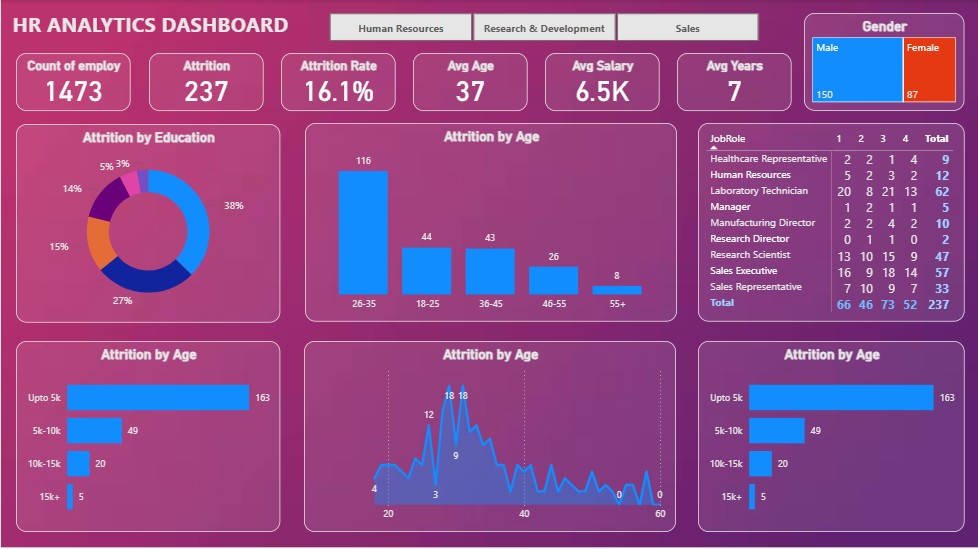

What the dashboard file says about the page in this screenshot:
{"tool":"powerbi","page":{"name":"Page 1","canvas":[1280,720],"ordinal":0},"visuals":[{"type":"card","title":"Count of employ","fields":{"Values":["CountNonNull(HR_Analytics.EmpID)"]},"box":[20.2,68.8,149.5,75.6],"z":0},{"type":"card","title":"Avg Age","fields":{"Values":["Avg(HR_Analytics.Age)"]},"box":[539.2,68.8,149.5,75.6],"z":1000},{"type":"card","title":"Attrition","fields":{"Values":["Sum(HR_Analytics.AttritionCount)"]},"box":[193.2,68.8,149.5,75.6],"z":2000},{"type":"card","title":"Attrition Rate","fields":{"Values":["HR_Analytics.AttritionRate"]},"box":[366.2,68.8,149.5,75.6],"z":3000},{"type":"card","title":"Avg Salary","fields":{"Values":["Avg(HR_Analytics.MonthlyIncome)"]},"box":[712.2,68.8,149.5,75.6],"z":4000},{"type":"card","title":"Avg Years","fields":{"Values":["Avg(HR_Analytics.YearsAtCompany)"]},"box":[885.2,68.8,149.5,75.6],"z":5000},{"type":"donutChart","title":" Attrition by Education","fields":{"Category":["HR_Analytics.EducationField"],"Y":["Sum(HR_Analytics.AttritionCount)"]},"box":[20.2,161.8,346,260],"z":6000},{"type":"columnChart","title":" Attrition by Age","fields":{"Category":["HR_Analytics.AgeGroup"],"Y":["Sum(HR_Analytics.AttritionCount)"]},"box":[398.1,161.3,487.1,260.4],"z":7000},{"type":"pivotTable","fields":{"Rows":["HR_Analytics.JobRole"],"Columns":["HR_Analytics.JobSatisfaction"],"Values":["Sum(HR_Analytics.AttritionCount)"]},"box":[912.1,161.3,349.4,260.4],"z":8000},{"type":"barChart","title":" Attrition by Age","fields":{"Category":["HR_Analytics.SalarySlab"],"Y":["Sum(HR_Analytics.AttritionCount)"]},"box":[20.2,446.8,346,250.3],"z":9000},{"type":"barChart","title":" Attrition by Age","fields":{"Category":["HR_Analytics.SalarySlab"],"Y":["Sum(HR_Analytics.AttritionCount)"]},"box":[912.1,446.8,349.4,250.3],"z":10000},{"type":"areaChart","title":" Attrition by Age","fields":{"Category":["HR_Analytics.Age"],"Y":["Sum(HR_Analytics.AttritionCount)"]},"box":[396.4,446.8,487.1,250.3],"z":11000},{"type":"treemap","title":"Gender","fields":{"Group":["HR_Analytics.Gender"],"Values":["Sum(HR_Analytics.AttritionCount)"]},"box":[1051.5,16.8,210,127.7],"z":12000},{"type":"textbox","box":[0,8.4,502.3,52.1],"z":13000},{"type":"slicer","title":"gfdgsdf","fields":{"Values":["HR_Analytics.Department"]},"box":[404.8,10.1,611.4,50.4],"z":14000}]}

Visuals, with their boxes in screenshot pixels (x1, y1, x2, y2), scaled from the page's 1280x720 canvas onto the 978x549 screenshot:
"Count of employ" card: [left=15, top=52, right=130, bottom=110]
"Avg Age" card: [left=412, top=52, right=526, bottom=110]
"Attrition" card: [left=148, top=52, right=262, bottom=110]
"Attrition Rate" card: [left=280, top=52, right=394, bottom=110]
"Avg Salary" card: [left=544, top=52, right=658, bottom=110]
"Avg Years" card: [left=676, top=52, right=791, bottom=110]
" Attrition by Education" donutChart: [left=15, top=123, right=280, bottom=322]
" Attrition by Age" columnChart: [left=304, top=123, right=676, bottom=322]
pivotTable - HR_Analytics.JobRole x HR_Analytics.JobSatisfaction: [left=697, top=123, right=964, bottom=322]
" Attrition by Age" barChart: [left=15, top=341, right=280, bottom=532]
" Attrition by Age" barChart: [left=697, top=341, right=964, bottom=532]
" Attrition by Age" areaChart: [left=303, top=341, right=675, bottom=532]
"Gender" treemap: [left=803, top=13, right=964, bottom=110]
textbox: [left=0, top=6, right=384, bottom=46]
"gfdgsdf" slicer: [left=309, top=8, right=776, bottom=46]
